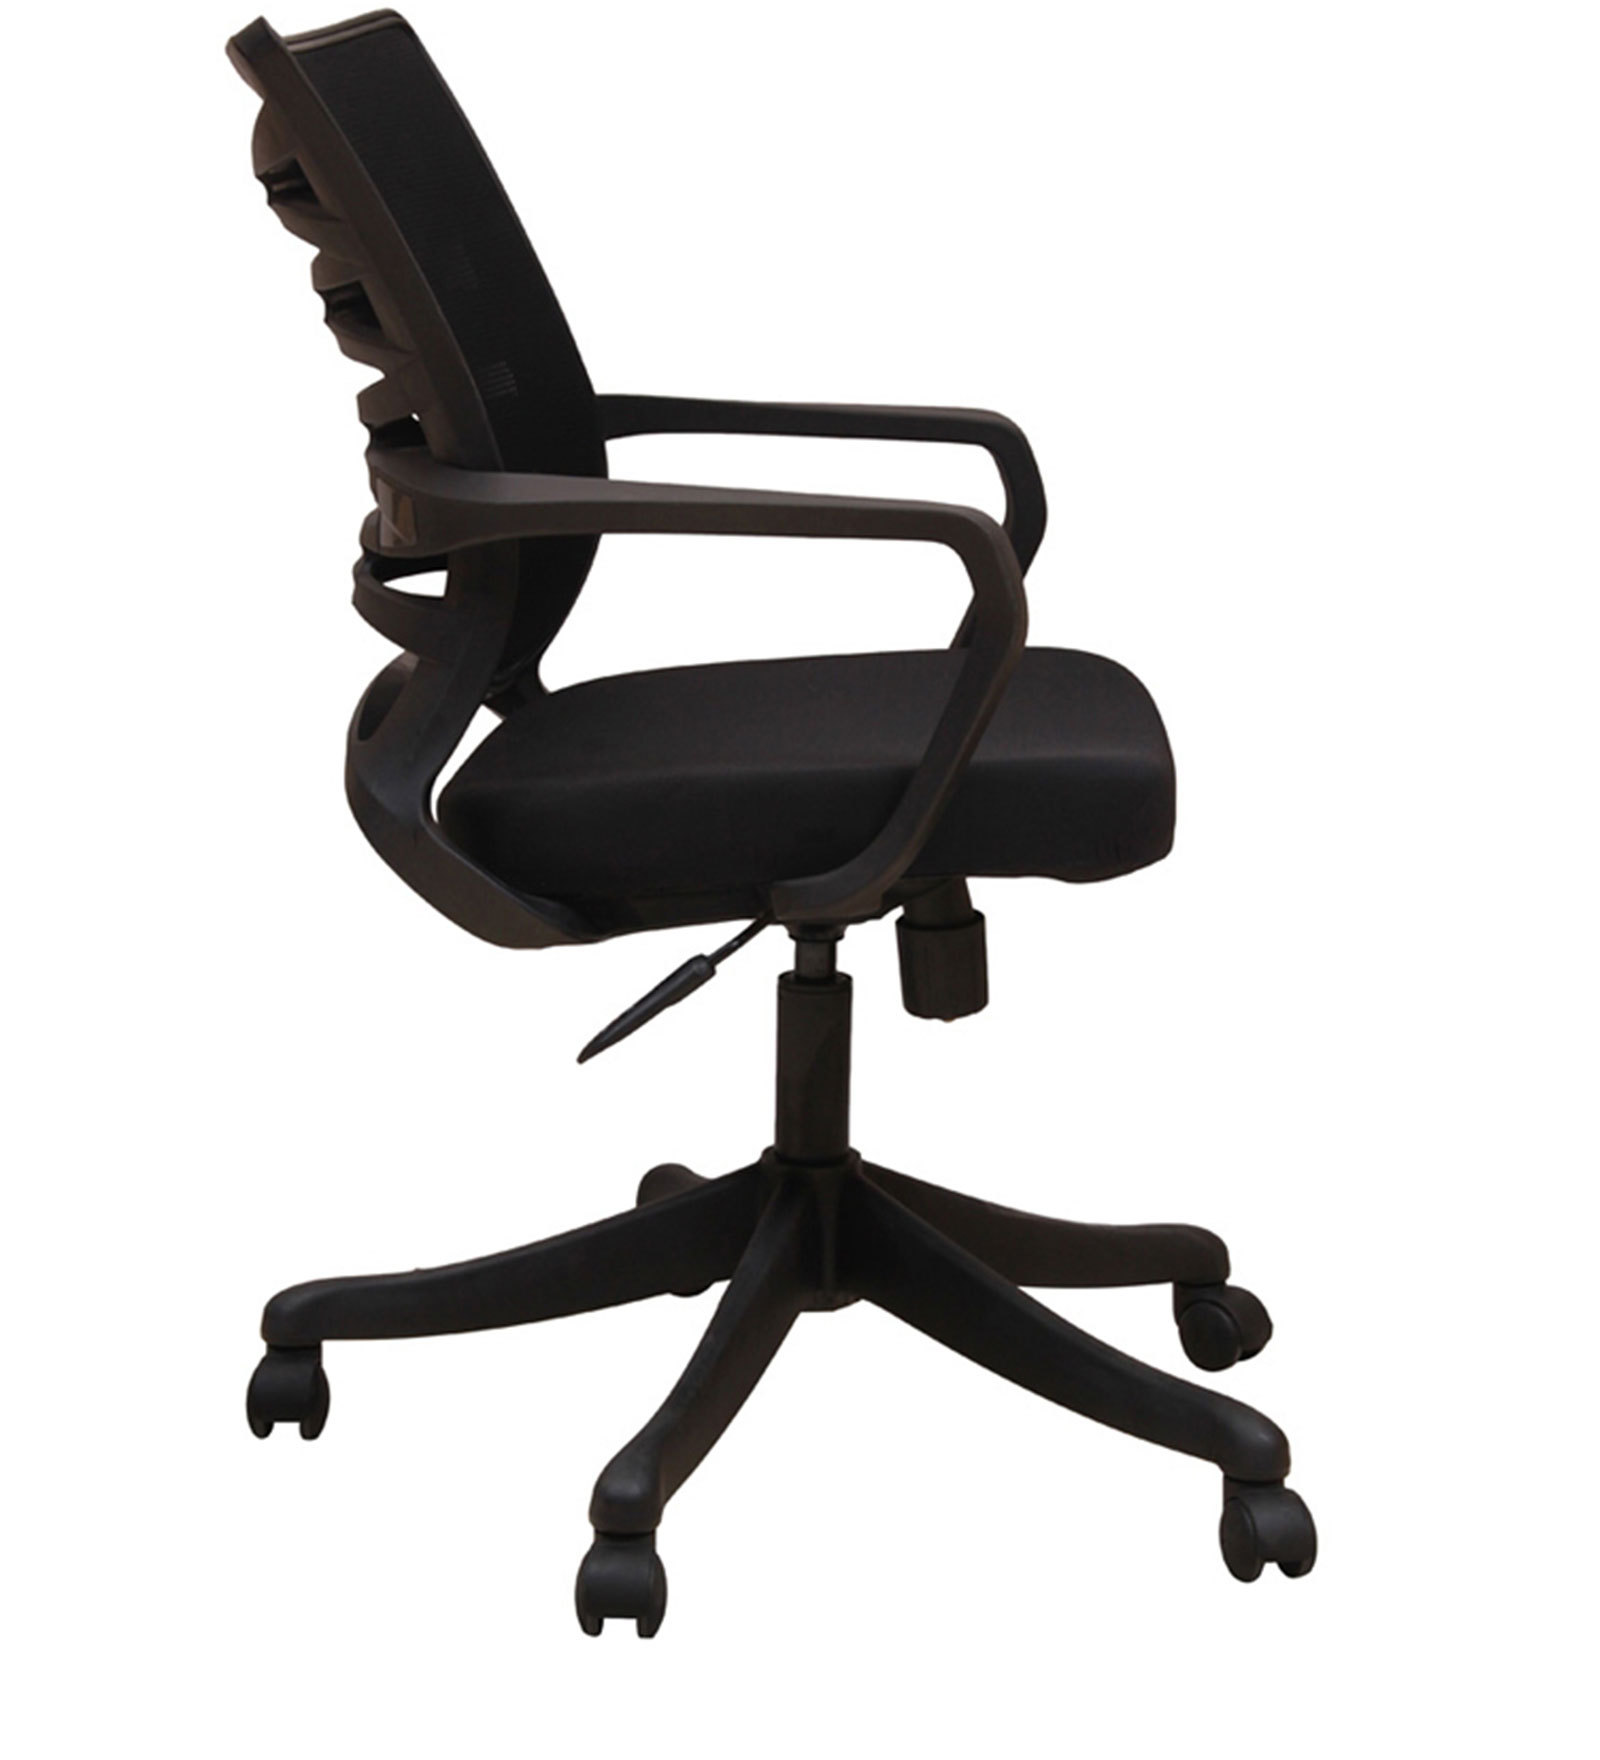Royal Mesh Ergonomic Chair in Black Colour by Adiko Systems: (133, 28, 1419, 1702)
